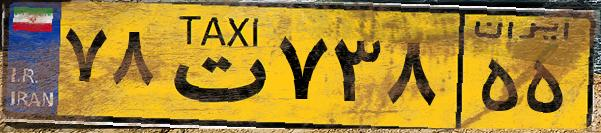3: (330, 28, 385, 110)
5: (475, 38, 525, 113), (525, 38, 570, 115)
7: (270, 28, 330, 110), (57, 26, 110, 100)
8: (385, 28, 445, 110), (110, 28, 158, 98)
ت: (158, 12, 270, 120)
